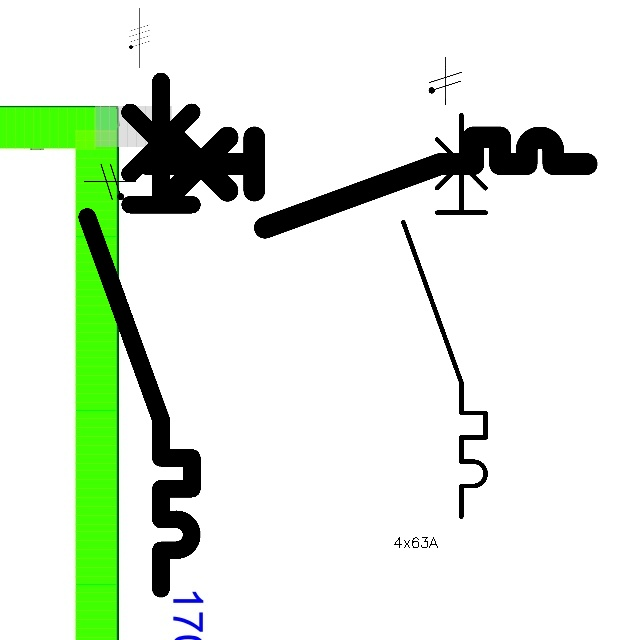interruptor_termomagnetico: (74, 68, 205, 602), (136, 126, 598, 239), (393, 104, 496, 526)
